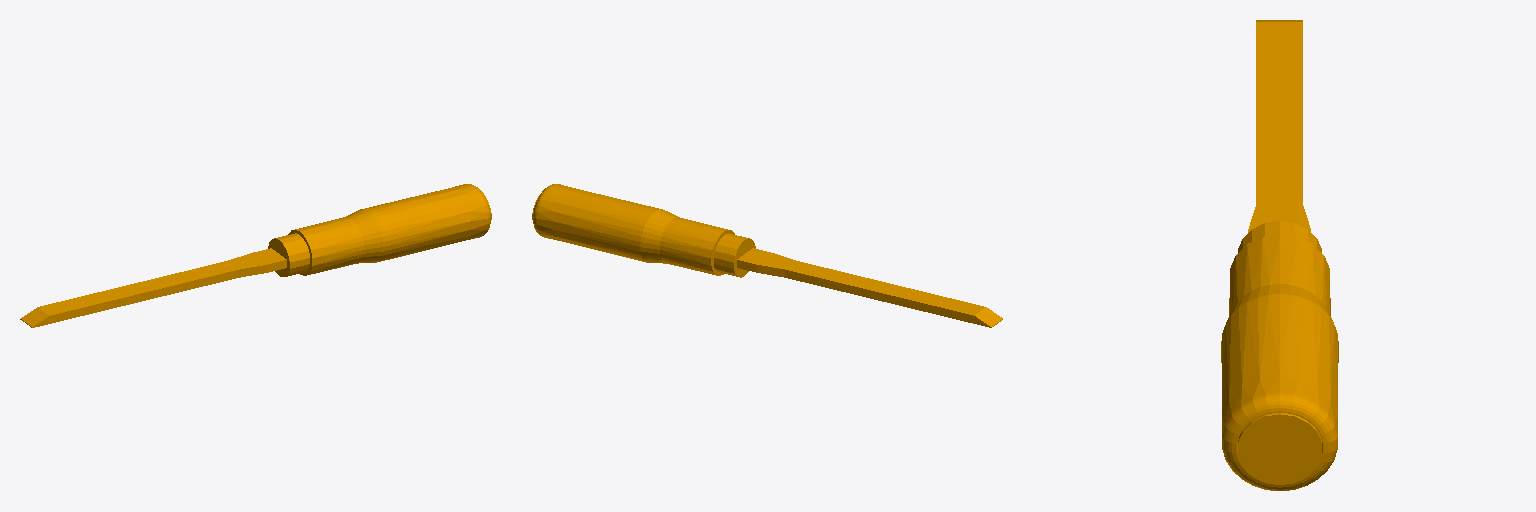
robot.urdf — chisel_1_L0.58_T0.52:
<?xml version="1.0" encoding="utf-8"?>
<robot name="chisel_1_L0.58_T0.52">
  <link name="chisel_1_L0.58_T0.52Link">
    <contact>
      <lateral_friction value="1"/>
    </contact>
    <inertial>
      <origin rpy="0 0 0" xyz="0 0 0"/>
      <mass value="0.0"/>
      <inertia ixx="0" ixy="0" ixz="0" iyy="0" iyz="0" izz="0"/>
    </inertial>
    <visual>
      <origin rpy="0 0 0" xyz="0 0 0"/>
      <geometry>
        <mesh filename="generated_stl/chisel/chisel_1/chisel_1_L0.58_T0.52/chisel_1_L0.58_T0.52.stl" scale="0.01 0.01 0.01"/>
      </geometry>
    </visual>
    <collision>
      <origin rpy="0 0 0" xyz="0 0 0"/>
      <geometry>
        <mesh filename="generated_stl/chisel/chisel_1/chisel_1_L0.58_T0.52/chisel_1_L0.58_T0.52.stl" scale="0.01 0.01 0.01"/>
      </geometry>
    </collision>
  </link>
</robot>

--- Render facts (derived) ---
The picture shows the robot from 3 angles, left to right: view 1: azimuth 30°, elevation 25°; view 2: azimuth 150°, elevation 25°; view 3: azimuth 270°, elevation 25°; orthographic projection.
Robot: chisel_1_L0.58_T0.52 — 1 links, 0 joints (none); root link chisel_1_L0.58_T0.52Link; default pose: every joint at zero.
Visible links, largest first — view 1: chisel_1_L0.58_T0.52Link; view 2: chisel_1_L0.58_T0.52Link; view 3: chisel_1_L0.58_T0.52Link.
Link boxes in pixels (bbox=[...]): chisel_1_L0.58_T0.52Link: bbox=[20, 184, 491, 327]; chisel_1_L0.58_T0.52Link: bbox=[532, 184, 1002, 327]; chisel_1_L0.58_T0.52Link: bbox=[1221, 20, 1338, 490].
Size in the robot's own frame: 0.0461 by 0.0052 by 0.0048 metres.
1 mesh visuals loaded from 1 distinct referenced files (1 binary STL).